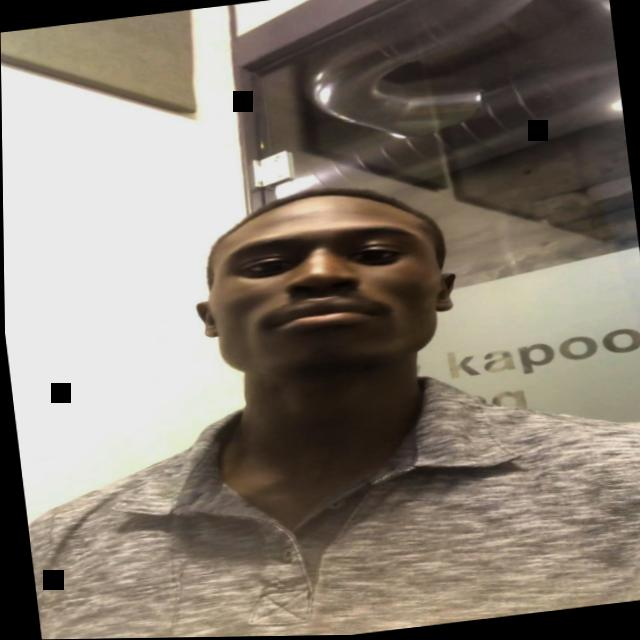NO-Mask: (208, 193, 459, 390)
